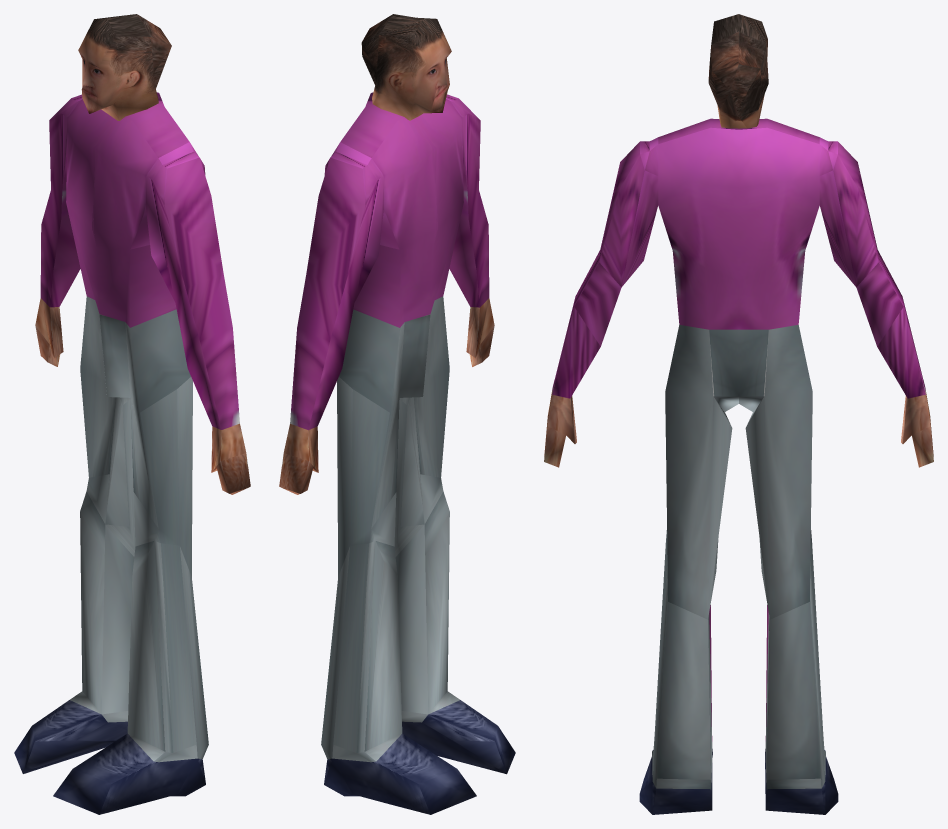
The model's file is man4.fbx.
The picture shows the model from 3 angles, left to right: view 1: azimuth 30°, elevation 25°; view 2: azimuth 150°, elevation 25°; view 3: azimuth 270°, elevation 25°; orthographic projection. The views are drawn at different scales.
Visible parts, largest first — view 1: man4; view 2: man4; view 3: man4.
Part boxes in pixels (x1,y1,x2,y2): man4: [14, 14, 250, 814]; man4: [279, 14, 515, 814]; man4: [544, 14, 933, 814].
Size of the model in its own units: 34.73 by 186 by 84.77.
2 materials, 2 textured.
